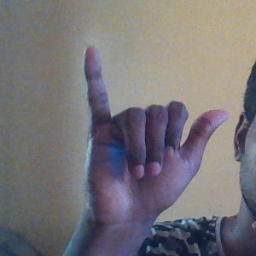J: (79, 47, 228, 220)
